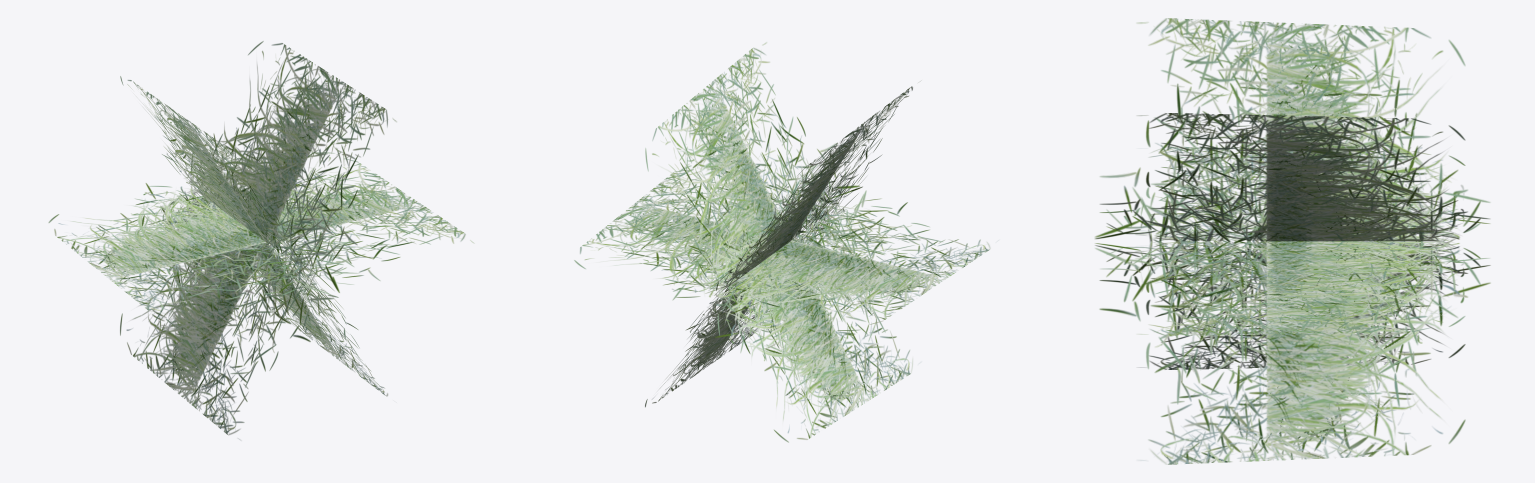
File: GrassCard_Tall.glb
3 renders of one model, left to right at view 1: azimuth 30°, elevation 25°; view 2: azimuth 150°, elevation 25°; view 3: azimuth 270°, elevation 25°, orthographic. The views are drawn at different scales.
Parts seen in each view (by area): view 1: GrassCard_Tall; view 2: GrassCard_Tall; view 3: GrassCard_Tall.
Part boxes in pixels (<box>): GrassCard_Tall: <box>48,41,473,440</box>; GrassCard_Tall: <box>574,42,998,442</box>; GrassCard_Tall: <box>1095,18,1490,464</box>.
Bounding box in the file's own units: 0.3 × 0.2598 × 0.3.
Materials: 1 (1 with a texture image).
